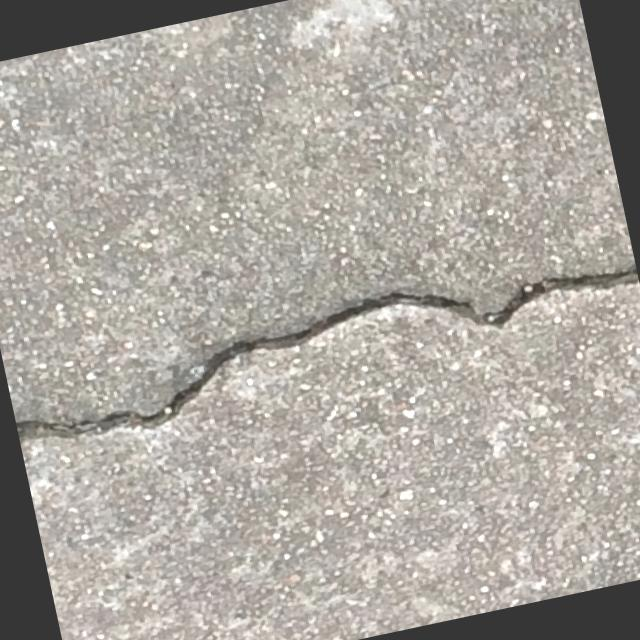crack: (6, 239, 640, 456)
